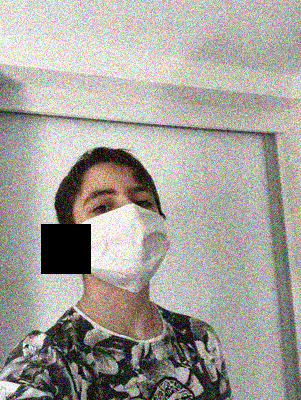with_mask: (73, 179, 169, 297)
